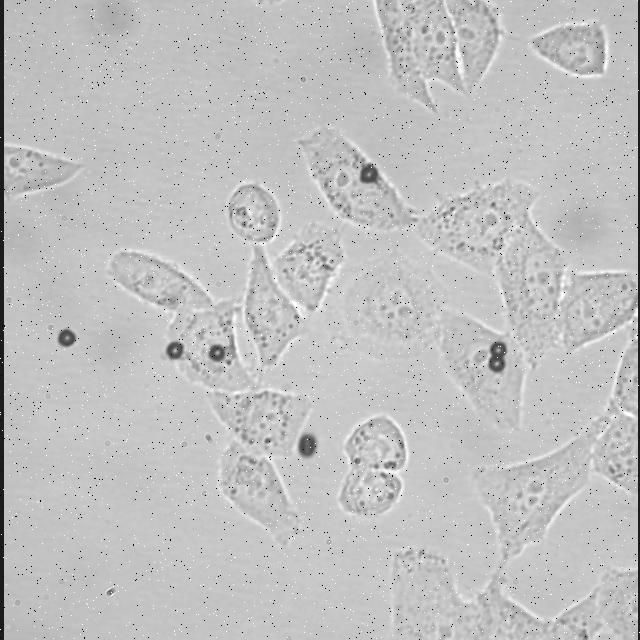microbeads: (207, 340, 229, 366), (357, 164, 379, 186), (482, 356, 508, 374), (160, 342, 184, 358), (55, 329, 75, 346), (490, 342, 510, 356)
